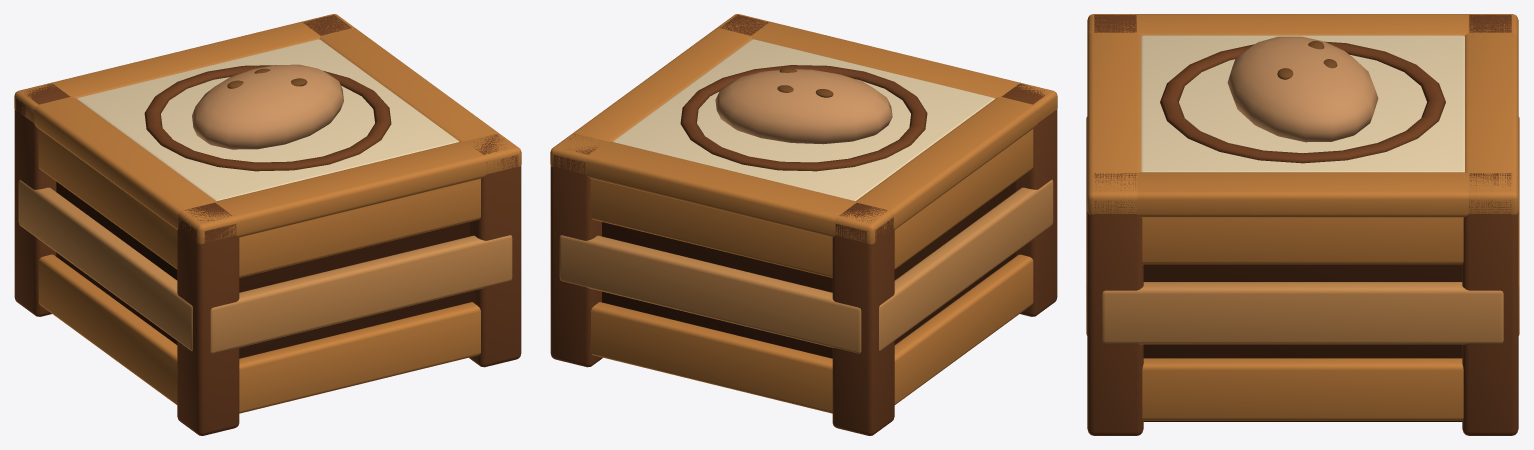
The model's file is crate_potatoes.gltf.
3 views of the same model, side by side, from view 1: azimuth 30°, elevation 25°; view 2: azimuth 150°, elevation 25°; view 3: azimuth 270°, elevation 25° (orthographic). The views are drawn at different scales.
Parts seen in each view (by area): view 1: CrateShadowCore; view 2: CrateShadowCore; view 3: CrateShadowCore.
Part boxes in pixels (bbox=[...]): CrateShadowCore: bbox=[14, 14, 521, 435]; CrateShadowCore: bbox=[550, 14, 1057, 435]; CrateShadowCore: bbox=[1086, 14, 1519, 435].
Bounding box in the file's own units: 1.01 × 0.7425 × 1.01.
